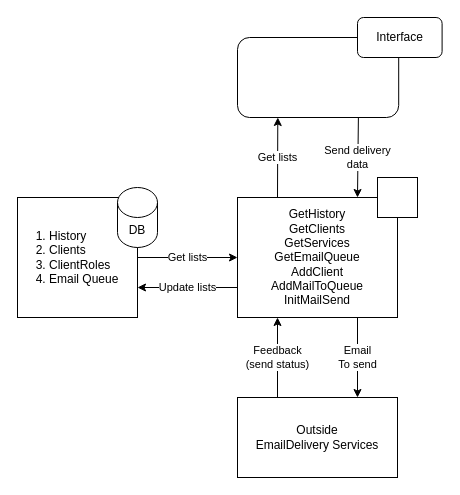
This 460x495 diagram has some shape labels left out. The shapes that lost their labels are listed below. From the top down, each one's box as (x1, y1, x2, y2) in pixels, then its label:
(236, 36, 399, 118): Authorization, History List, Email Queue, New Message
(376, 176, 418, 218): API
